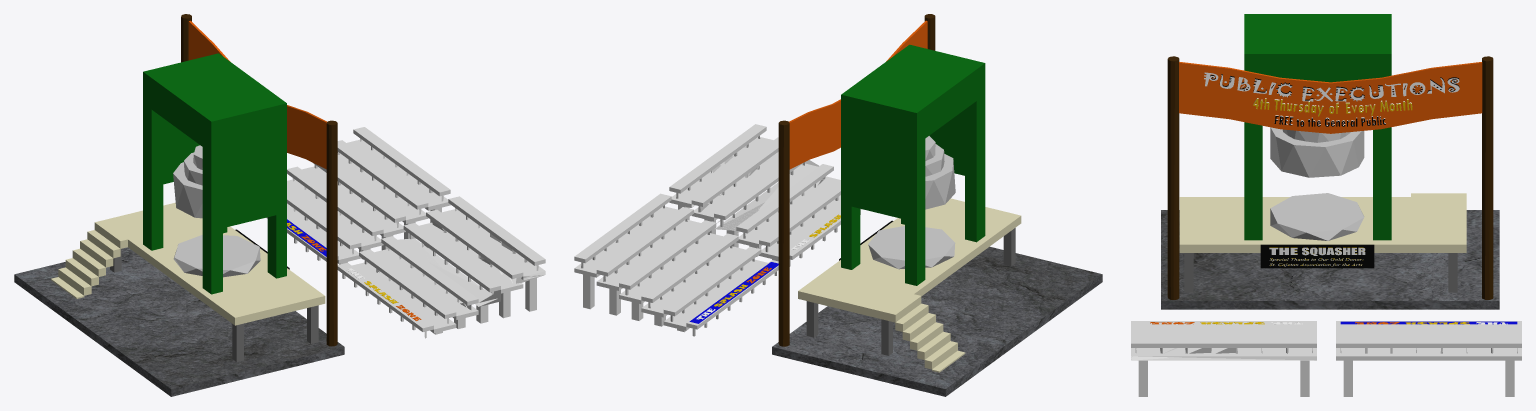
File: Public Executions.glb
3 renders of one model, left to right at view 1: azimuth 30°, elevation 25°; view 2: azimuth 150°, elevation 25°; view 3: azimuth 270°, elevation 25°, orthographic. The views are drawn at different scales.
Visible parts, largest first — view 1: Press Frame, Ground, Bleacher.001, Bleacher, Platform, Posts, Stairs, Banner, Press Platform, Press, Supports; view 2: Press Frame, Ground, Bleacher, Bleacher.001, Platform, Posts, Banner, Stairs, Press Platform, Press, Supports; view 3: Ground, Banner, Press Frame, Platform, Bleacher, Bleacher.001, Posts, Press, Press Platform, Sign, Text, Supports.
Boxes of the visible parts, x1,y1,x2,y2 form: Press Frame: (143,53,286,294); Ground: (14,247,344,396); Bleacher.001: (337,196,545,338); Bleacher: (266,127,450,264); Platform: (102,202,325,325); Posts: (181,14,337,346); Stairs: (51,220,127,298); Banner: (188,20,326,169); Press Platform: (173,235,260,277); Press: (173,145,202,218); Supports: (110,249,318,362); Press Frame: (841,44,985,285); Ground: (772,246,1102,396); Bleacher: (574,193,778,336); Bleacher.001: (669,124,861,266); Platform: (798,198,1021,320); Posts: (778,14,935,346); Banner: (789,20,927,169); Stairs: (888,294,965,372); Press Platform: (868,226,955,269); Press: (925,136,955,209); Supports: (806,228,1015,355); Ground: (1161,210,1499,309); Banner: (1179,62,1482,133); Press Frame: (1244,14,1391,240); Platform: (1179,197,1466,252); Bleacher: (1336,321,1521,396); Bleacher.001: (1131,321,1316,396); Posts: (1167,56,1493,299); Press: (1270,127,1364,177); Press Platform: (1270,193,1364,240); Sign: (1260,244,1374,268); Text: (1269,247,1365,266); Supports: (1184,253,1457,292).
Size of what is drawn, in the model's own units: 14.75 by 8.95 by 12.82.
12 materials, 1 textured.
